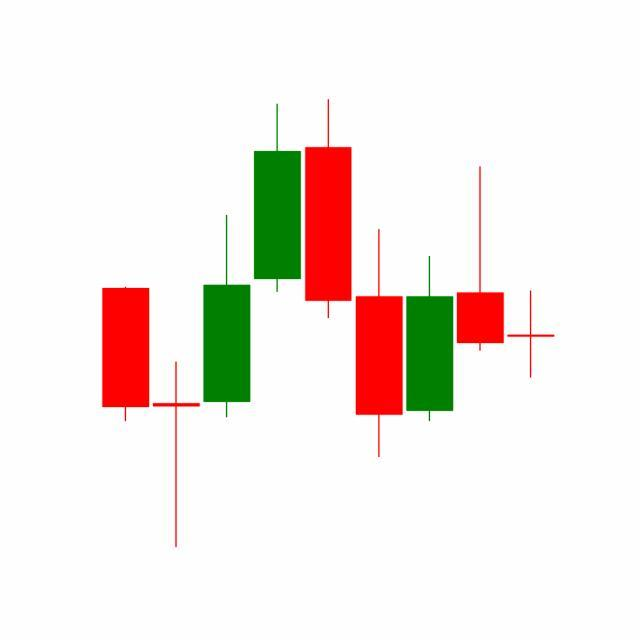Hikkake Pattern: (252, 99, 506, 462)
